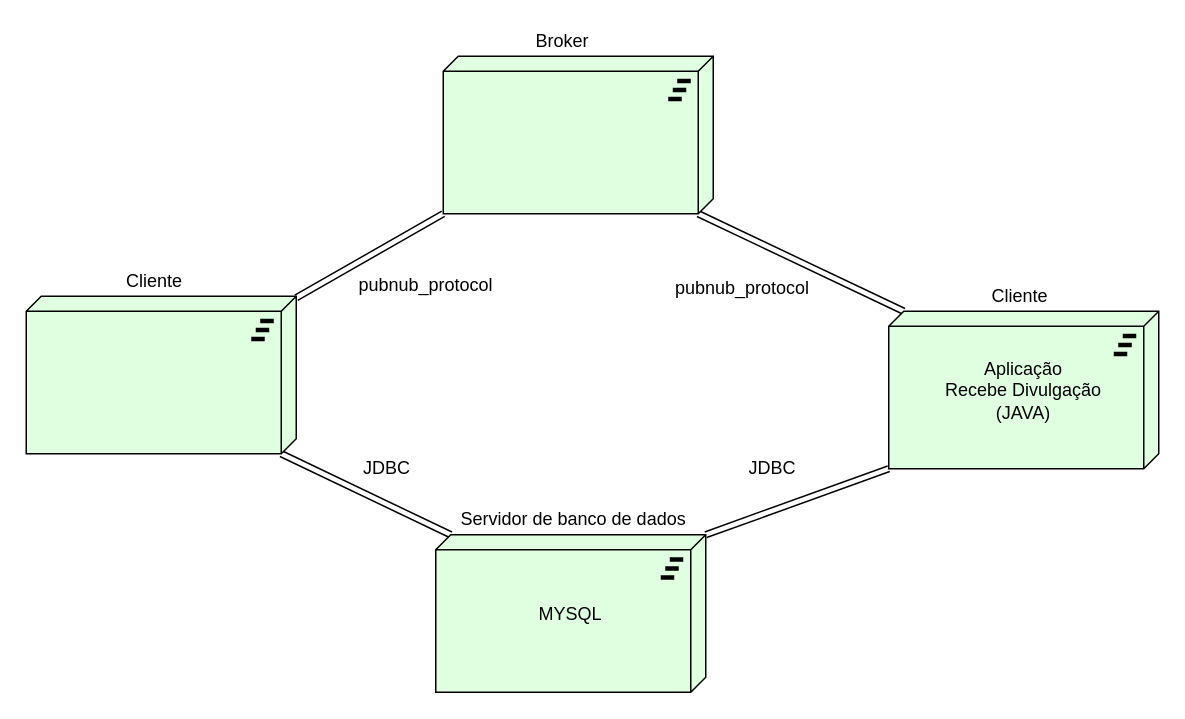
Some shapes in this 1185 by 719 pixel diagram are drawn without their labels. Each missing label, with the box of its shape:
Aplicação Envia Divulgação (JAVA): (25, 295, 296, 454)
pubnub: (442, 55, 713, 214)
